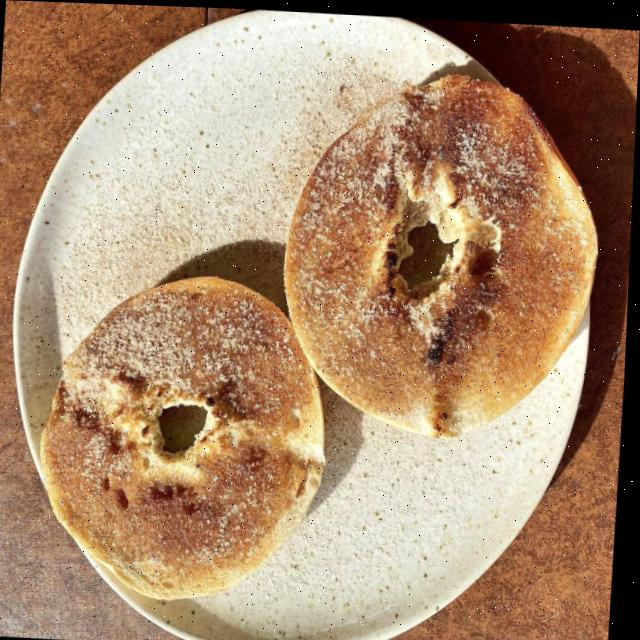Bagel: (286, 70, 599, 432), (44, 273, 328, 597)
